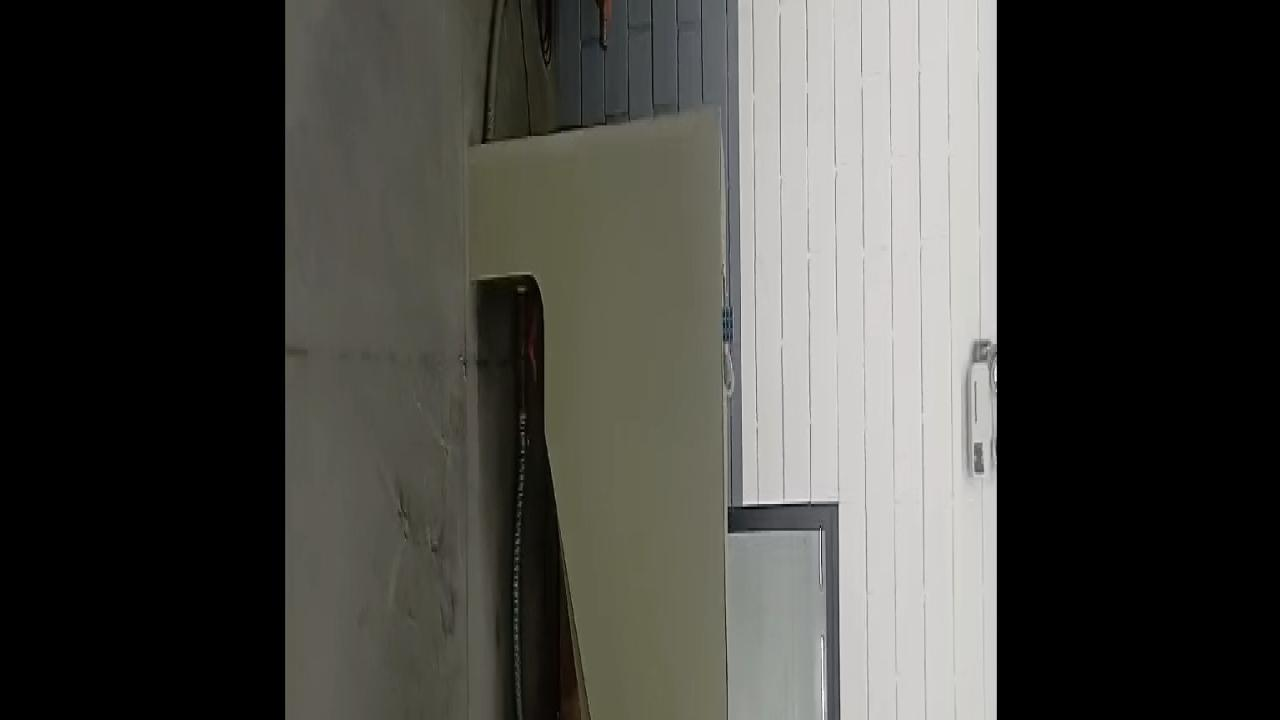Cube: (722, 307, 732, 342)
